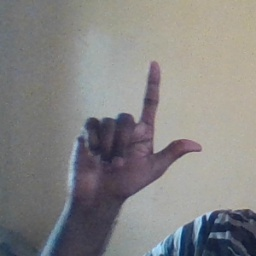L: (64, 59, 204, 197)
